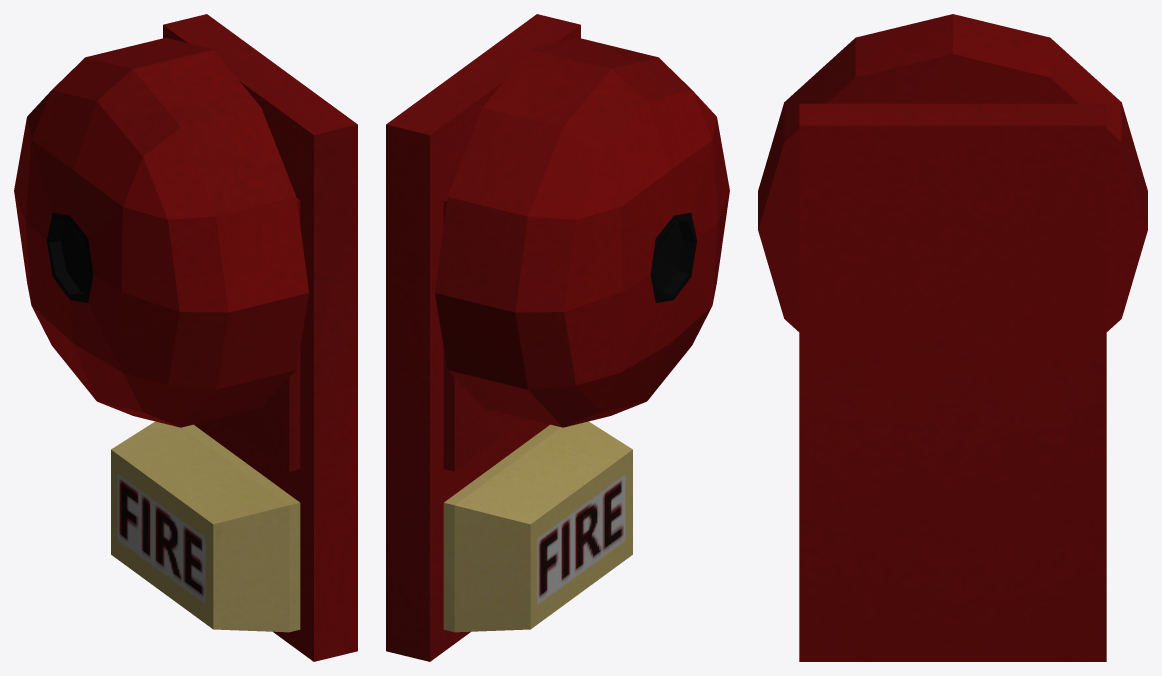
File: Palohälytin.fbx
3 renders of one model, left to right at view 1: azimuth 30°, elevation 25°; view 2: azimuth 150°, elevation 25°; view 3: azimuth 270°, elevation 25°, orthographic.
Visible parts, largest first — view 1: Palohälytin; view 2: Palohälytin; view 3: Palohälytin.
Boxes of the visible parts, box(x1,y1,x2,y2) form: Palohälytin: box(14, 14, 357, 661); Palohälytin: box(386, 14, 729, 661); Palohälytin: box(758, 14, 1147, 661).
Bounding box in the file's own units: 85.59 × 216 × 133.
Materials: 1 (1 with a texture image).
